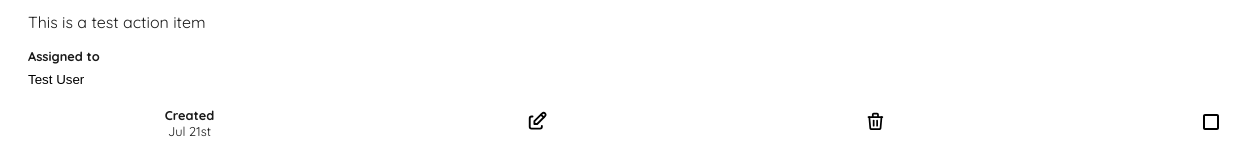
Test: ActionItemCard › delete button › should show confirmation dialog when delete button is clicked
The width and height of the screenshot is (1236, 160).
Click the button named "delete" at coordinates (876, 123), box [707,103,1045,143]
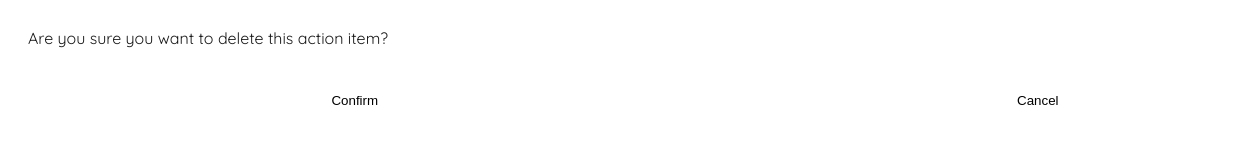
Now the text "Are you sure you want to delete this action item?" is shown, box [28,28,388,48]
